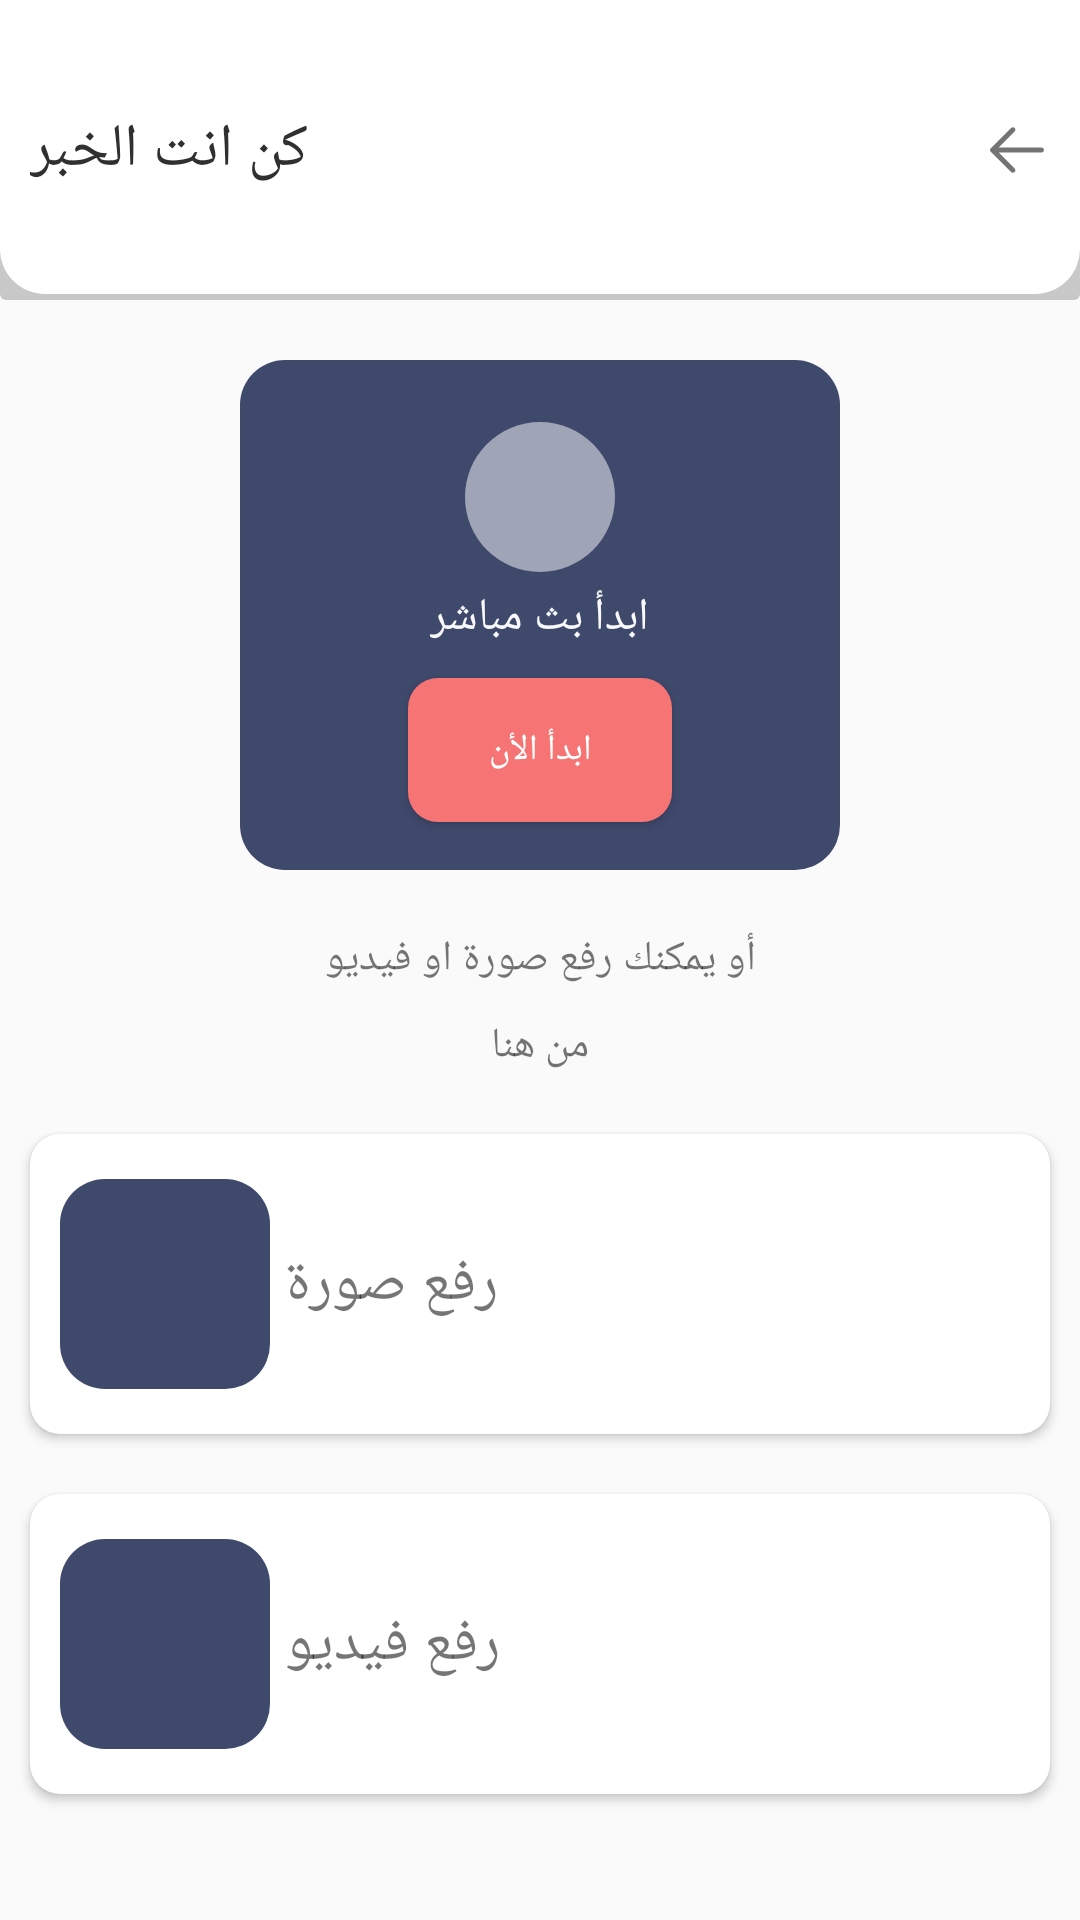

Icon click points for this 1080px x 1920px phone screenshot, format point (x, y):
back ion: point (1017, 150)
